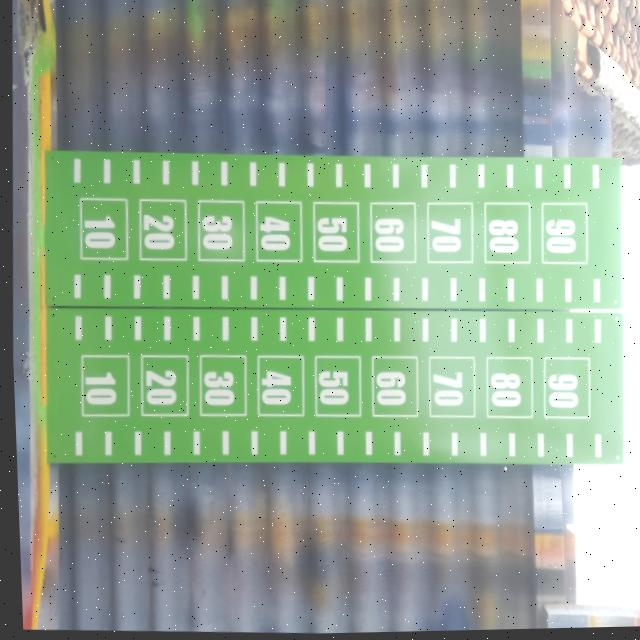water-meter: (32, 131, 632, 330), (26, 291, 634, 485)
